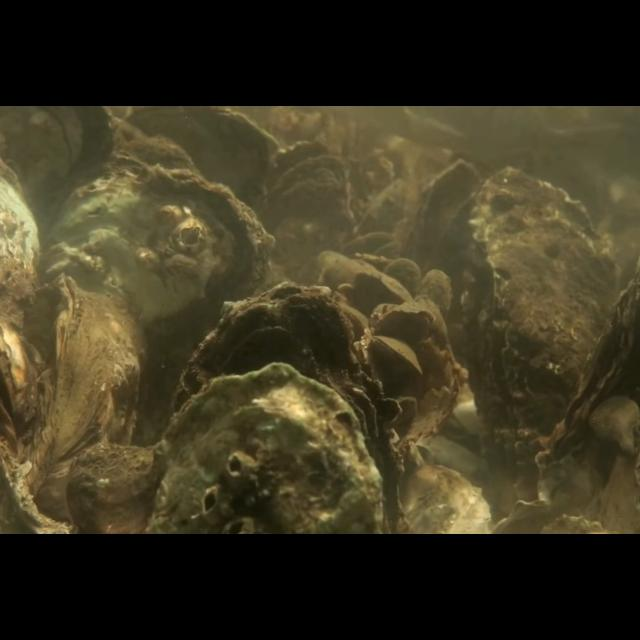Oyster-Closed: (45, 162, 274, 440), (172, 282, 402, 534), (144, 362, 383, 534), (28, 274, 142, 534), (404, 158, 484, 312), (353, 268, 413, 304), (382, 257, 422, 305), (378, 308, 436, 340), (420, 268, 452, 320)
Oyster-Open: (456, 165, 614, 462), (532, 251, 640, 501), (254, 139, 350, 281), (369, 335, 423, 377)
